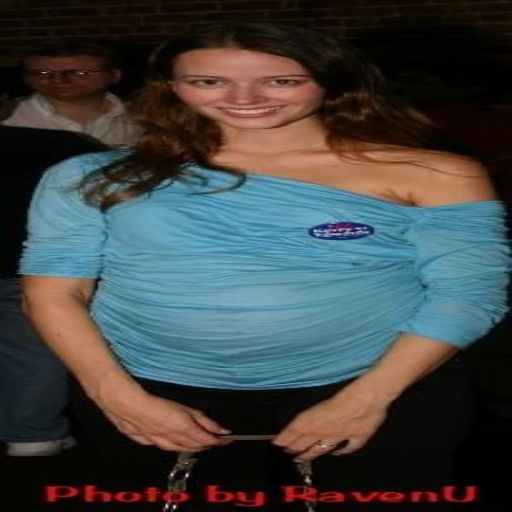hand: (266, 372, 419, 465), (95, 394, 230, 452)
